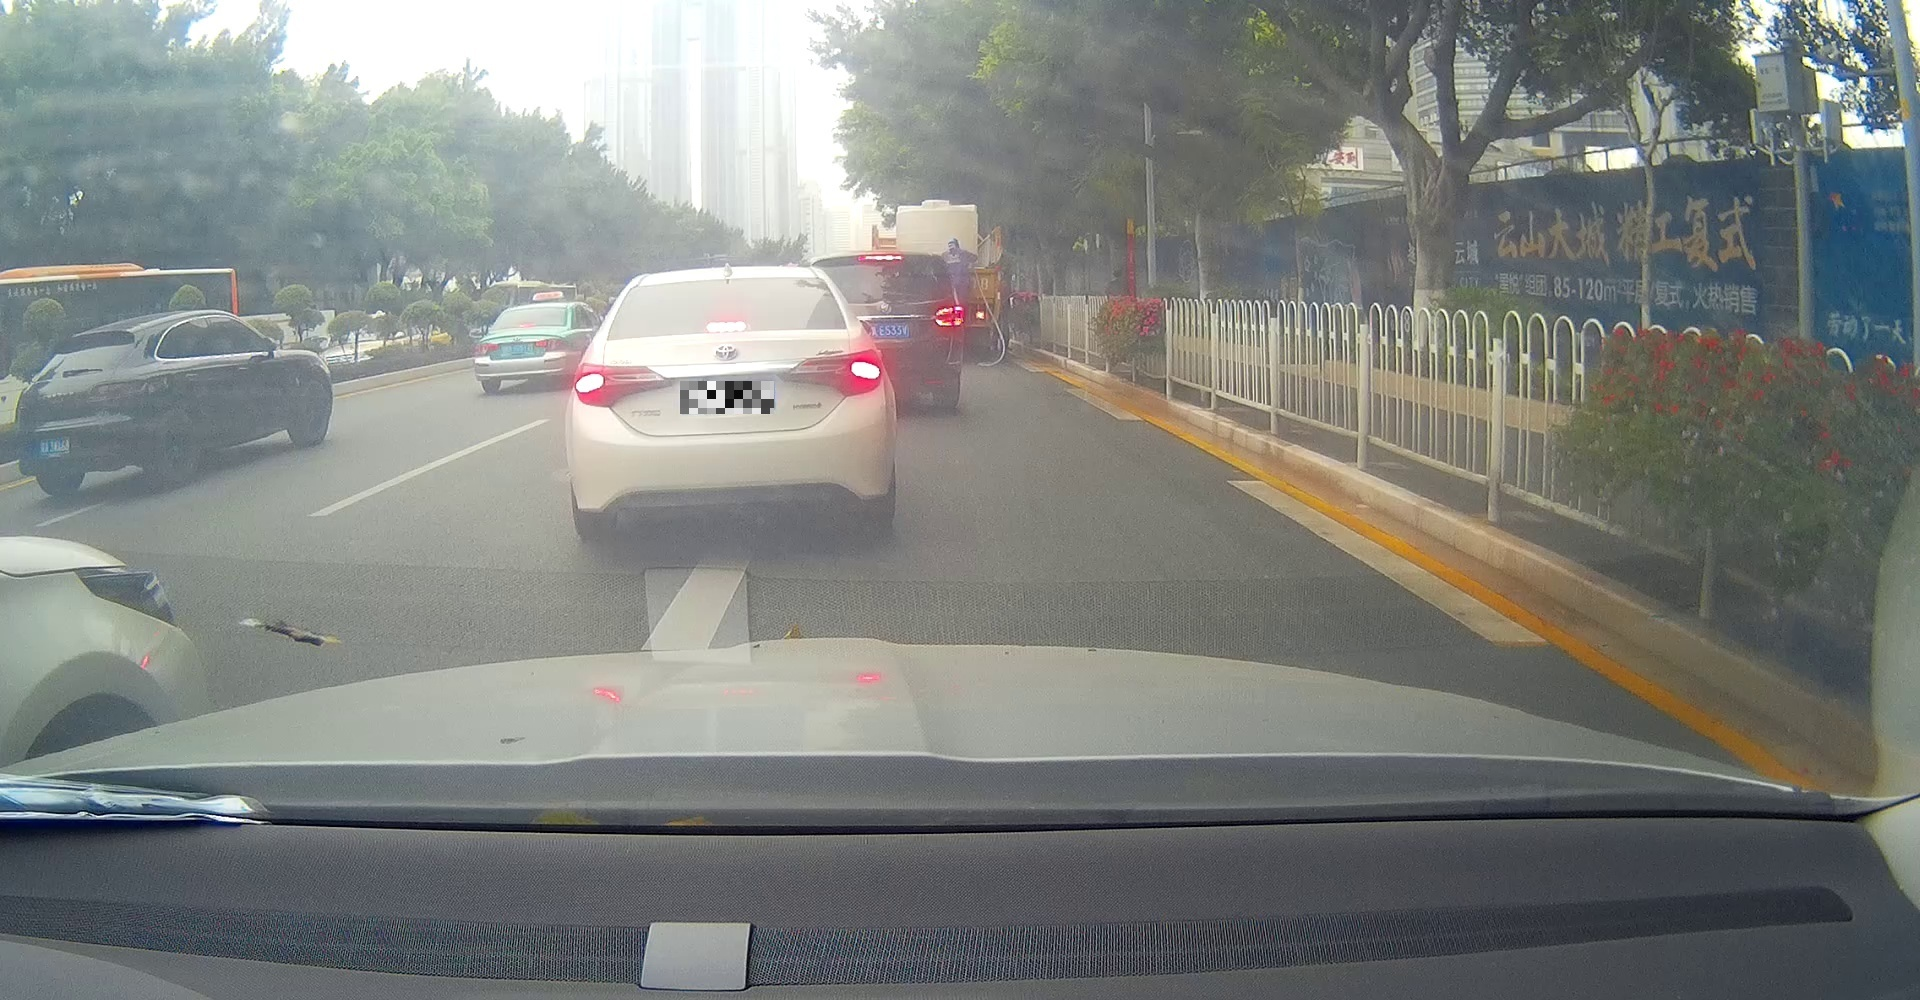L_light: (573, 362, 674, 406), (17, 396, 36, 411), (476, 344, 500, 355)
R_light: (778, 348, 883, 397), (88, 379, 143, 398), (535, 339, 565, 352)
T_light: (705, 320, 747, 334), (94, 332, 112, 340), (519, 322, 536, 329)
day-brake: (566, 265, 895, 544), (475, 302, 565, 392)
day-no: (15, 325, 147, 497)
plate_1: (681, 381, 775, 414)
